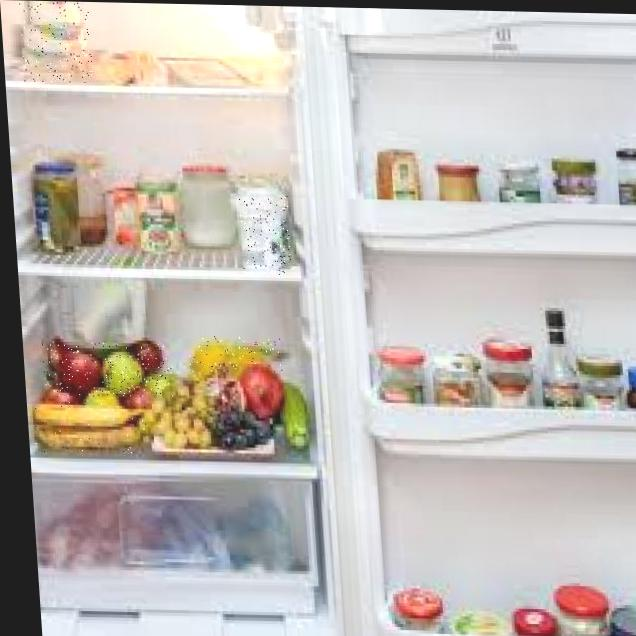apple: (42, 341, 173, 398)
banana: (29, 400, 149, 454)
cheese: (19, 1, 95, 83)
lemon: (188, 336, 283, 374)
yoghurt: (239, 194, 293, 275)
